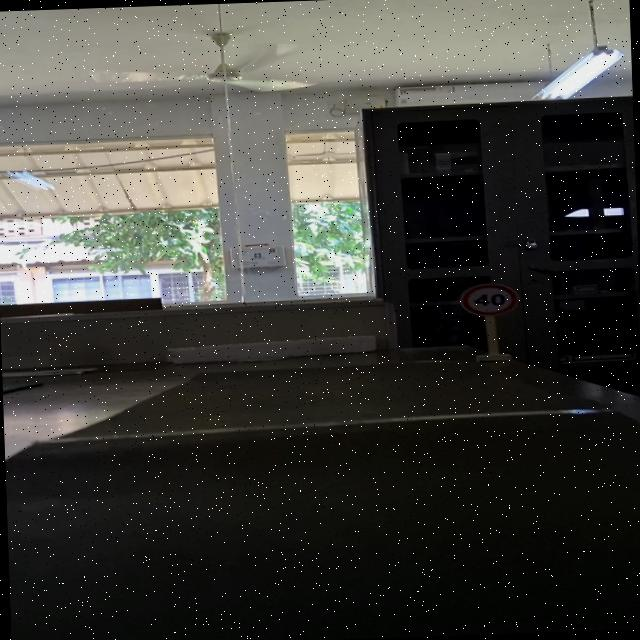Speed40: (461, 276, 526, 318)
